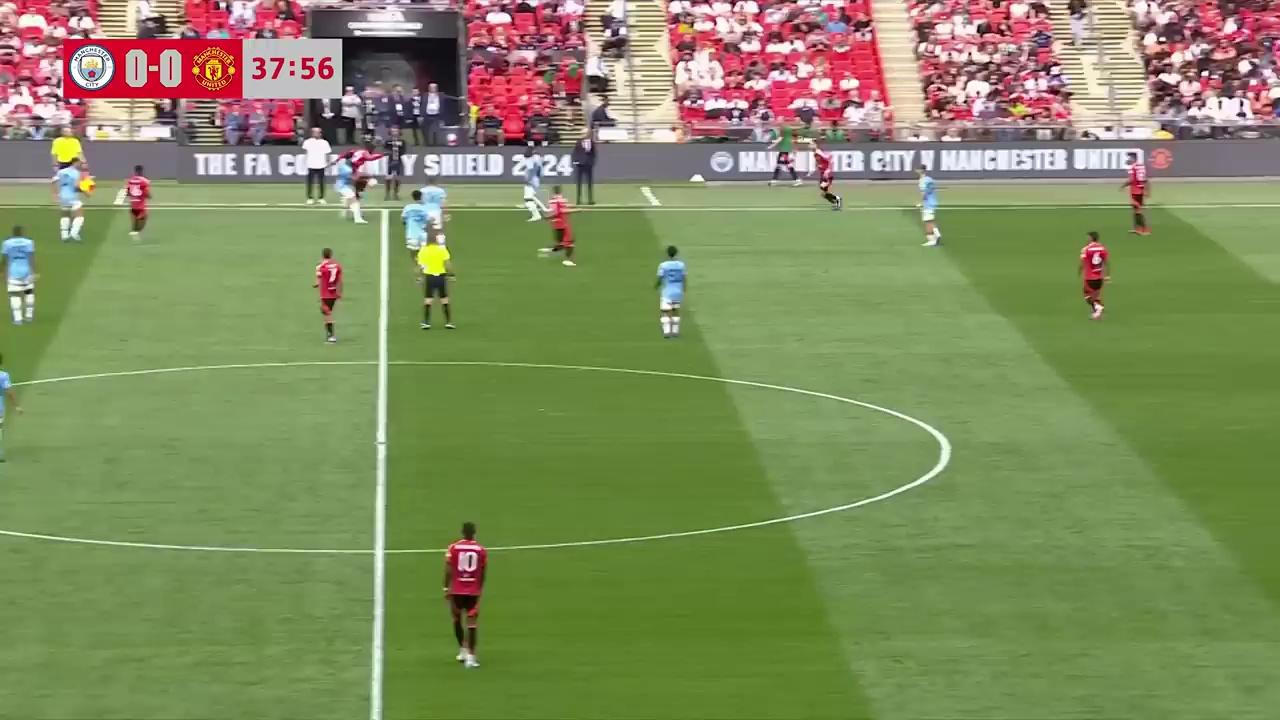player: (442, 521, 487, 669), (0, 223, 38, 324), (654, 244, 687, 338), (538, 187, 576, 266), (312, 247, 342, 344), (343, 144, 388, 206), (400, 198, 432, 281), (1079, 231, 1109, 319), (56, 164, 88, 243), (0, 357, 23, 465), (123, 165, 151, 237), (416, 192, 449, 250), (916, 168, 940, 247), (1124, 163, 1150, 235), (330, 154, 356, 222), (817, 156, 841, 210), (520, 170, 544, 221)
referee: (41, 121, 91, 201), (417, 237, 457, 330)
